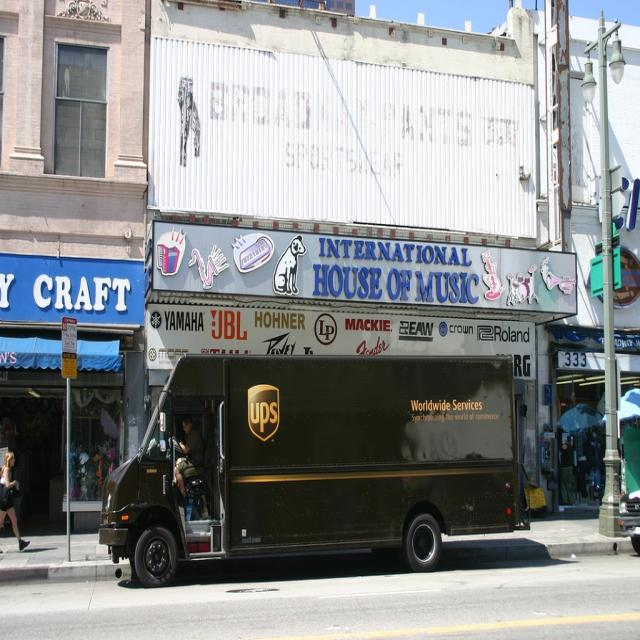ups: (249, 385, 281, 441)
